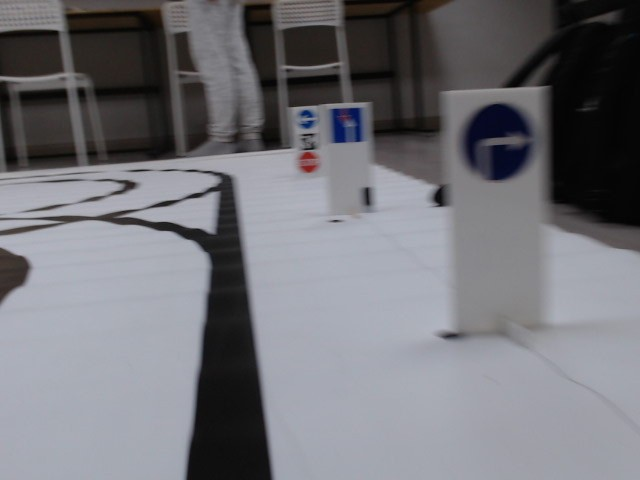Right: (456, 100, 541, 185)
Stop: (297, 151, 318, 173)
priority_movement: (329, 108, 364, 143)
